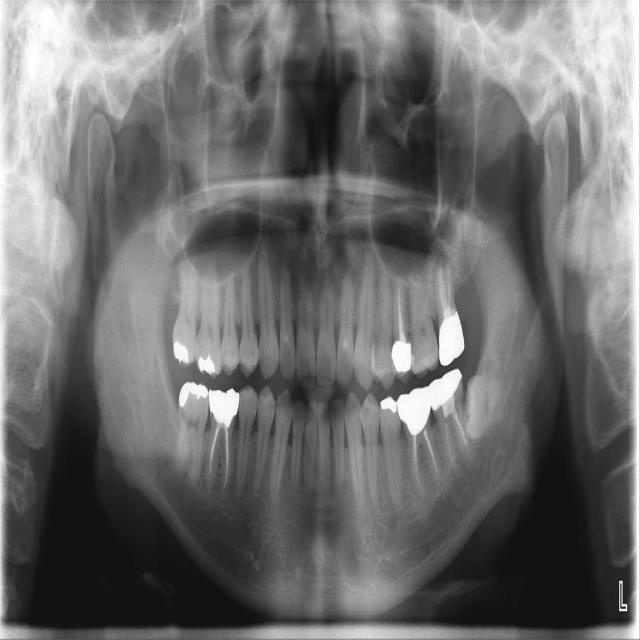Crown: (397, 385, 432, 436), (429, 368, 463, 420), (438, 317, 465, 367), (208, 387, 241, 425), (391, 340, 414, 384)
Filling: (179, 381, 208, 407), (199, 352, 216, 376), (173, 341, 189, 363), (380, 396, 397, 412)
Root Canal Treatment: (424, 432, 439, 473), (210, 424, 219, 477), (438, 259, 447, 309), (455, 416, 468, 449), (222, 426, 229, 486), (397, 286, 404, 344), (413, 439, 419, 487), (446, 421, 452, 461), (447, 264, 450, 305)
impacted tooth: (469, 377, 516, 436)
